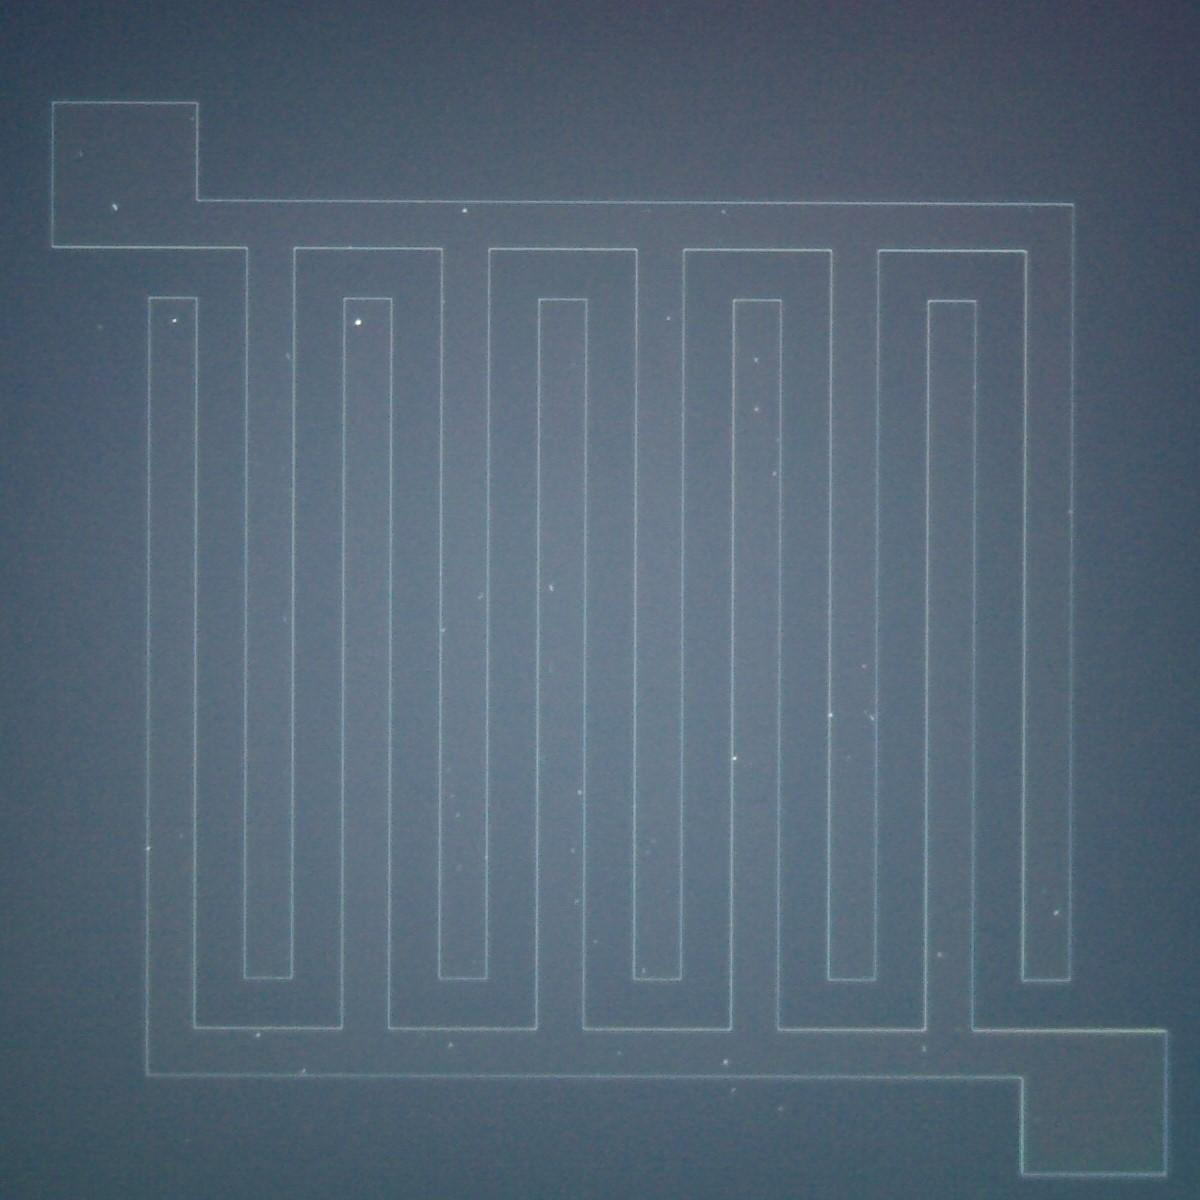B_point: (347, 312, 369, 334)
s_point: (102, 196, 126, 220), (1044, 901, 1066, 924), (912, 1038, 935, 1060), (89, 315, 110, 338), (929, 944, 952, 965), (247, 1024, 268, 1046), (278, 345, 298, 368), (714, 1052, 736, 1071), (769, 1099, 791, 1119), (165, 311, 186, 331), (442, 1035, 463, 1055), (542, 576, 560, 598), (723, 1080, 745, 1099), (73, 144, 91, 165), (454, 202, 475, 221), (293, 1062, 314, 1080), (723, 748, 744, 767), (821, 704, 838, 726), (470, 586, 490, 604), (610, 1044, 630, 1063), (854, 655, 871, 676), (714, 202, 733, 221), (566, 891, 584, 911), (435, 620, 453, 638), (860, 708, 877, 727), (184, 110, 199, 130), (641, 960, 656, 979), (573, 784, 588, 801), (748, 352, 764, 369), (660, 310, 676, 326), (768, 466, 782, 481), (565, 845, 579, 859), (588, 935, 602, 949), (749, 402, 764, 416), (449, 810, 465, 823), (771, 434, 784, 447)
